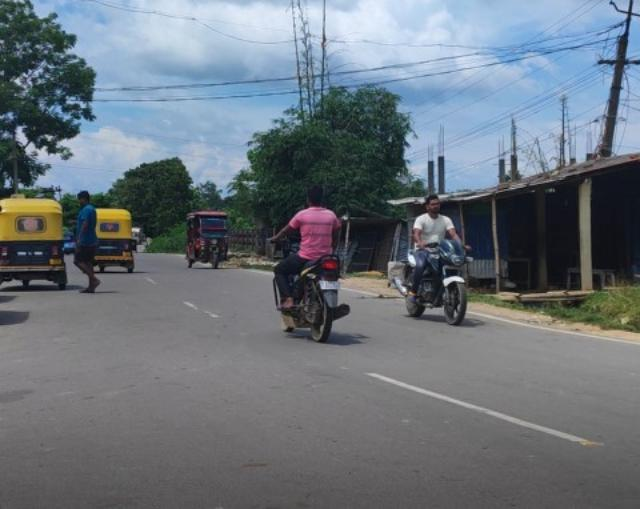licensePlate: (321, 278, 344, 294)
motorcycle: (274, 175, 357, 344), (398, 190, 476, 328)
withoutHelmet: (300, 180, 325, 208), (425, 195, 448, 214)
